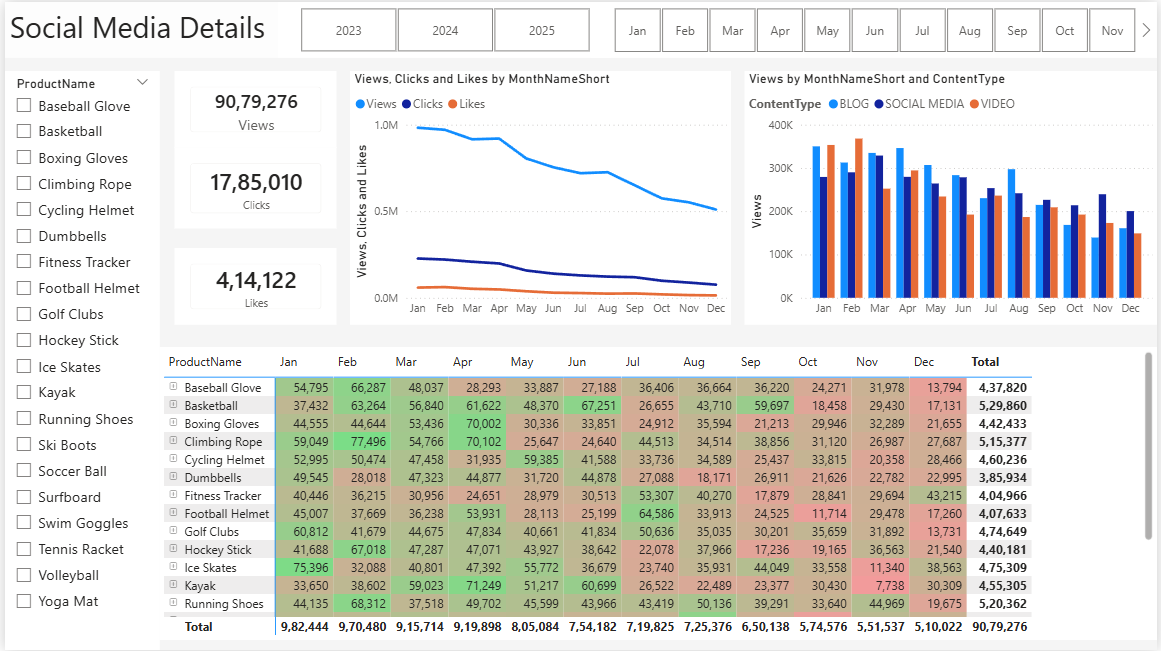

Layout of this report page (visuals, bound fields, positions):
{"tool":"powerbi","page":{"name":"Social Media Details","canvas":[1280,720],"ordinal":2},"visuals":[{"type":"textbox","box":[0,0,1280,61.7],"z":0},{"type":"slicer","fields":{"Values":["dim_products.ProductName"]},"box":[0,76.7,171.7,643.3],"z":1000},{"type":"cardVisual","fields":{"Data":["_calculations.views"]},"box":[188.3,76.7,180,85],"z":2000},{"type":"cardVisual","fields":{"Data":["_calculations.clicks"]},"box":[188.3,161.7,180,90],"z":3000},{"type":"cardVisual","fields":{"Data":["_calculations.Likes"]},"box":[188.3,273.3,180,85],"z":4000},{"type":"slicer","fields":{"Values":["Calendar.Year"]},"box":[303.3,0,370,61.7],"z":5000},{"type":"slicer","fields":{"Values":["Calendar.MonthNameShort"]},"box":[652,0,628,62],"z":6000},{"type":"clusteredColumnChart","fields":{"Y":["_calculations.Views"],"Category":["Calendar.MonthNameShort"],"Series":["fact_engagement_data.ContentType"]},"box":[821.7,76.7,458.3,281.7],"z":7000},{"type":"lineChart","fields":{"Category":["Calendar.MonthNameShort"],"Y":["_calculations.Views","_calculations.Clicks","_calculations.Likes"]},"box":[383.3,76.7,423.3,281.7],"z":8000},{"type":"pivotTable","fields":{"Rows":["dim_products.ProductName","fact_engagement_data.ContentType"],"Columns":["Calendar.MonthNameShort"],"Values":["_calculations.Views"]},"box":[171.7,383.3,1108.3,325],"z":9000}]}

Visuals, with their boxes in screenshot pixels (x1, y1, x2, y2), scaled from the page's 1280x720 canvas onto the 1161x651 screenshot:
textbox: region(0, 0, 1160, 56)
slicer - dim_products.ProductName: region(0, 69, 156, 650)
cardVisual - _calculations.views: region(171, 69, 334, 146)
cardVisual - _calculations.clicks: region(171, 146, 334, 228)
cardVisual - _calculations.Likes: region(171, 247, 334, 324)
slicer - Calendar.Year: region(275, 0, 611, 56)
slicer - Calendar.MonthNameShort: region(591, 0, 1160, 56)
clusteredColumnChart - _calculations.Views x Calendar.MonthNameShort: region(745, 69, 1160, 324)
lineChart - Calendar.MonthNameShort x _calculations.Views: region(348, 69, 732, 324)
pivotTable - dim_products.ProductName x fact_engagement_data.ContentType: region(156, 347, 1160, 640)
